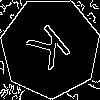K: (25, 22, 79, 79)
